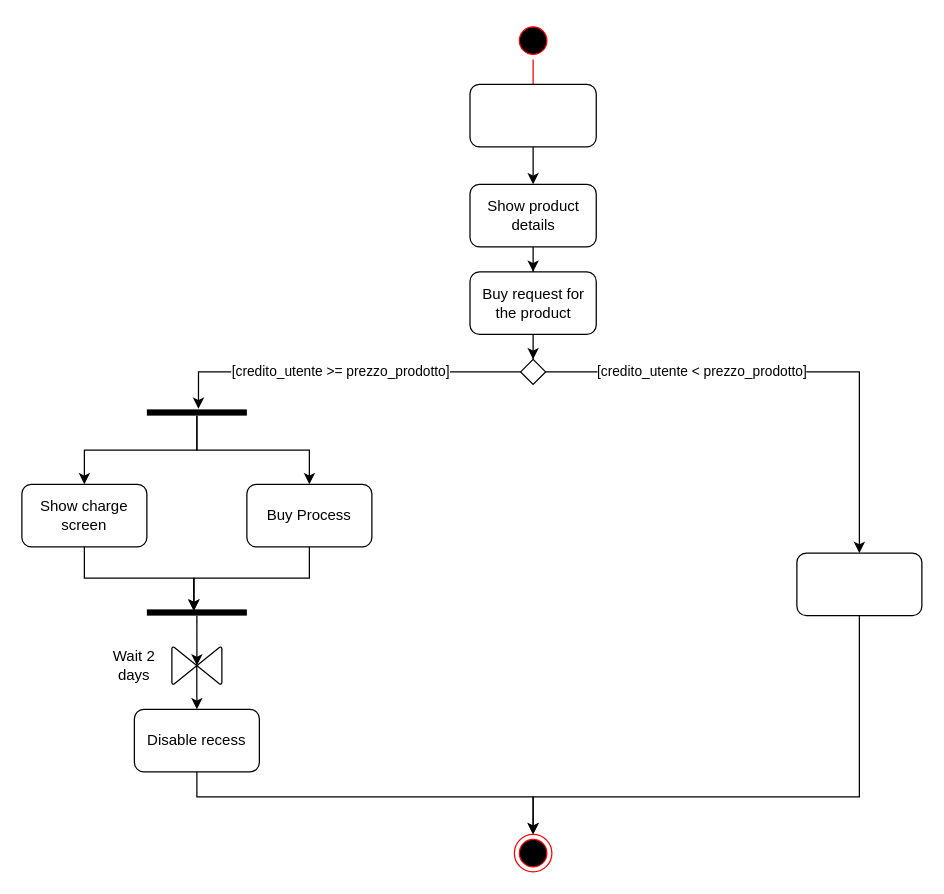
Some shapes in this 944 by 894 pixel diagram are drawn without their labels. The box of each missing label's shape, as (x1, y1, x2, y2) in pixels:
Search for products by parameter: (469, 83, 596, 147)
Show error screen: (796, 552, 922, 616)
